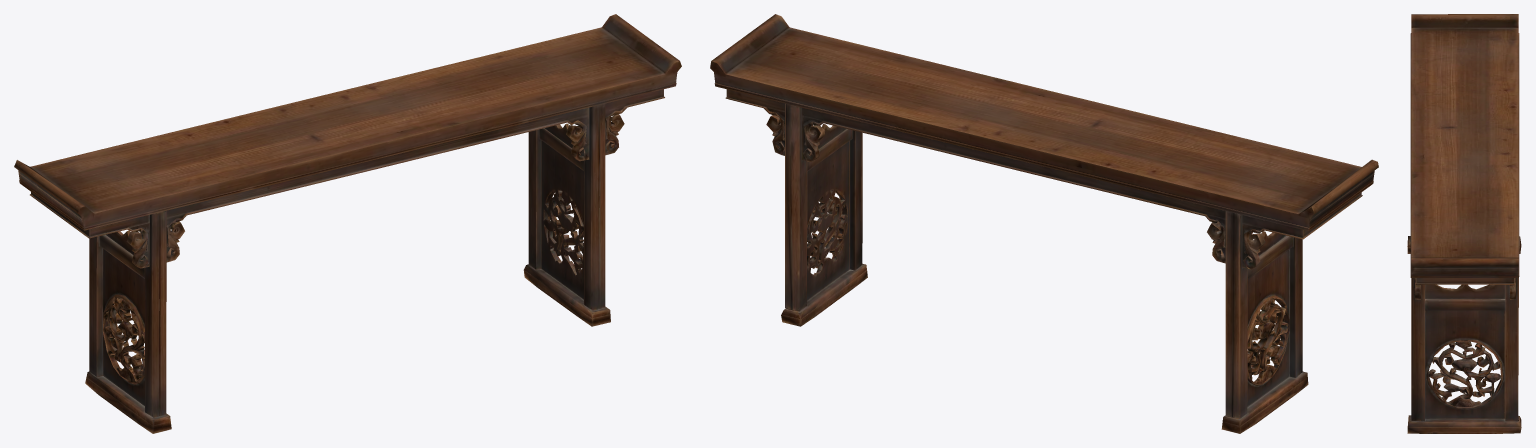
Rendered from chinese_console_table.glb.
The picture shows the model from 3 angles, left to right: view 1: azimuth 30°, elevation 25°; view 2: azimuth 150°, elevation 25°; view 3: azimuth 270°, elevation 25°; orthographic projection. The views are drawn at different scales.
Parts seen in each view (by area): view 1: chinese_console_table; view 2: chinese_console_table; view 3: chinese_console_table.
Part boxes in pixels (box(x1,y1,x2,y2)): chinese_console_table: box(14, 14, 681, 433); chinese_console_table: box(710, 14, 1378, 433); chinese_console_table: box(1407, 14, 1521, 433).
Bounding box in the file's own units: 1.72 × 0.6601 × 0.3349.
Materials: 1 (1 with a texture image).
